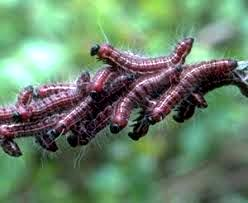Caterpillar: (145, 59, 239, 123), (108, 65, 182, 132), (173, 69, 248, 124), (91, 37, 194, 75), (15, 87, 82, 118), (71, 102, 116, 147), (0, 119, 73, 142), (129, 98, 167, 142), (0, 84, 33, 118), (88, 64, 115, 99), (35, 79, 75, 97), (33, 134, 59, 153), (0, 141, 27, 156)
